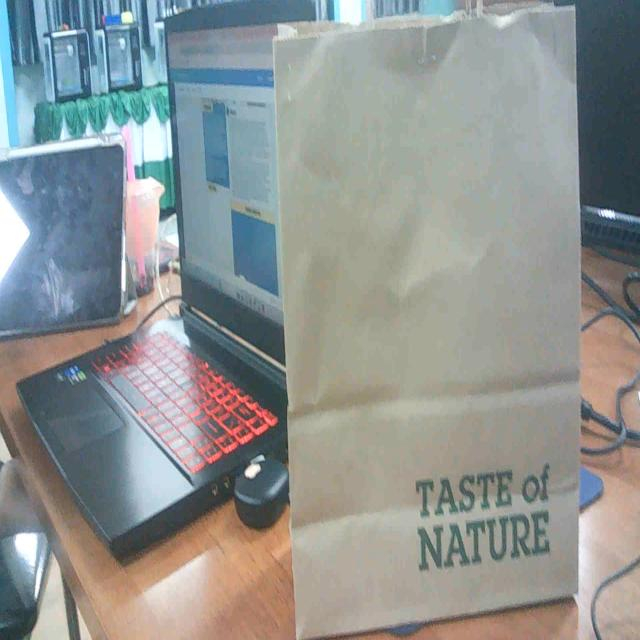bag: (254, 9, 596, 611)
